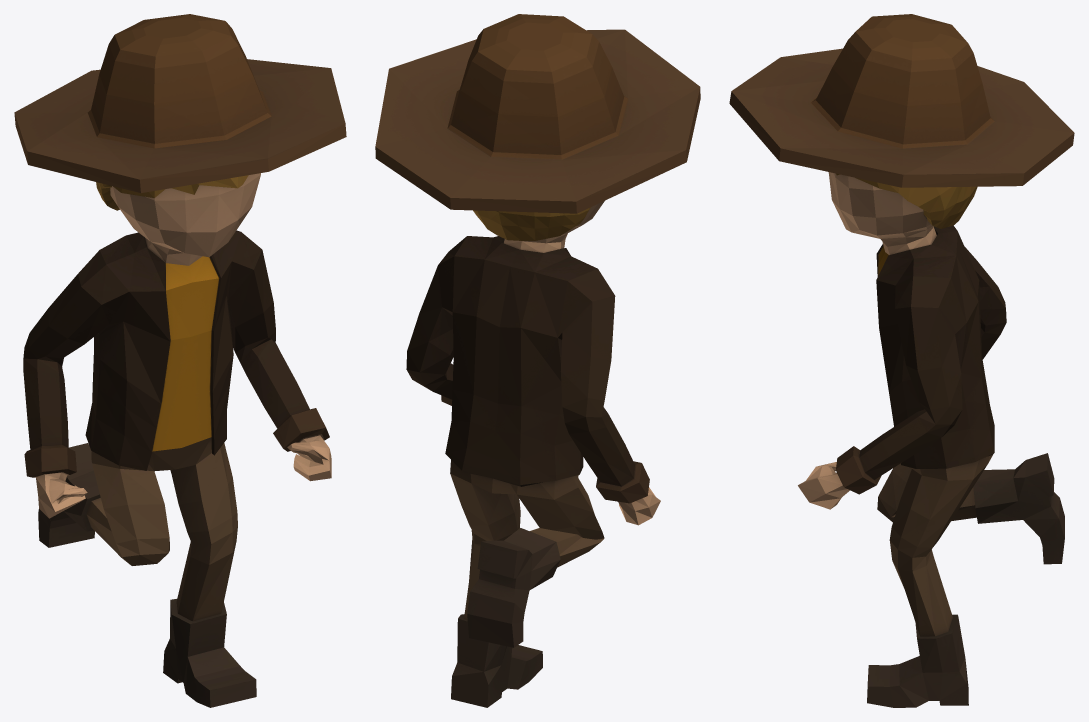
The model's file is run 02.obj.
3 views of the same model, side by side, from view 1: azimuth 30°, elevation 25°; view 2: azimuth 150°, elevation 25°; view 3: azimuth 270°, elevation 25° (orthographic). The views are drawn at different scales.
Visible parts, largest first — view 1: Character_Cube; view 2: Character_Cube; view 3: Character_Cube.
Boxes of the visible parts, x1,y1,x2,y2 form: Character_Cube: (14, 14, 346, 707); Character_Cube: (375, 14, 700, 707); Character_Cube: (729, 14, 1074, 707).
Bounding box in the file's own units: 7.15 × 15.11 × 7.26.
